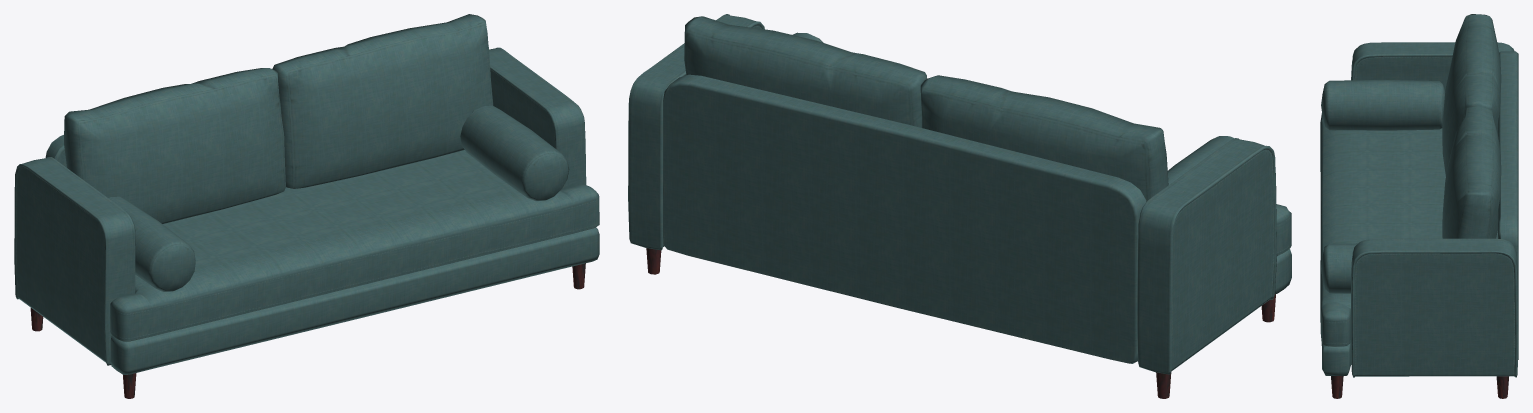
3 renders of one model, left to right at view 1: azimuth 30°, elevation 25°; view 2: azimuth 150°, elevation 25°; view 3: azimuth 270°, elevation 25°, orthographic. The views are drawn at different scales.
Visible parts, largest first — view 1: sofa_sofa_0; view 2: sofa_sofa_0; view 3: sofa_sofa_0.
Part boxes in pixels (bbox=[...]): sofa_sofa_0: bbox=[14, 14, 599, 398]; sofa_sofa_0: bbox=[628, 14, 1291, 398]; sofa_sofa_0: bbox=[1320, 14, 1518, 398].
Bounding box in the file's own units: 2.53 × 1.1 × 1.01.
Materials: 1 (1 with a texture image).
